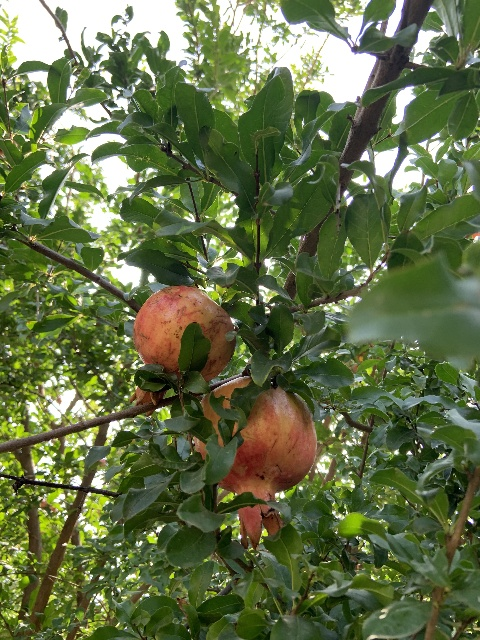ripe: (194, 376, 316, 550), (128, 285, 236, 415)
